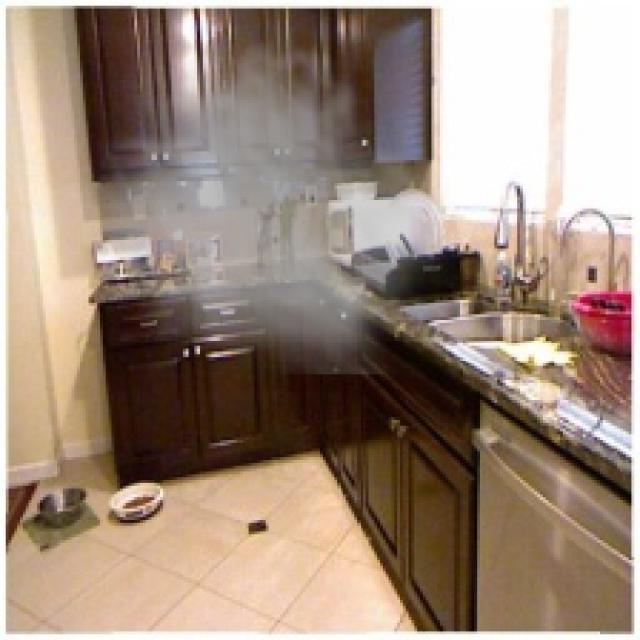Smoke: (77, 0, 461, 375)
